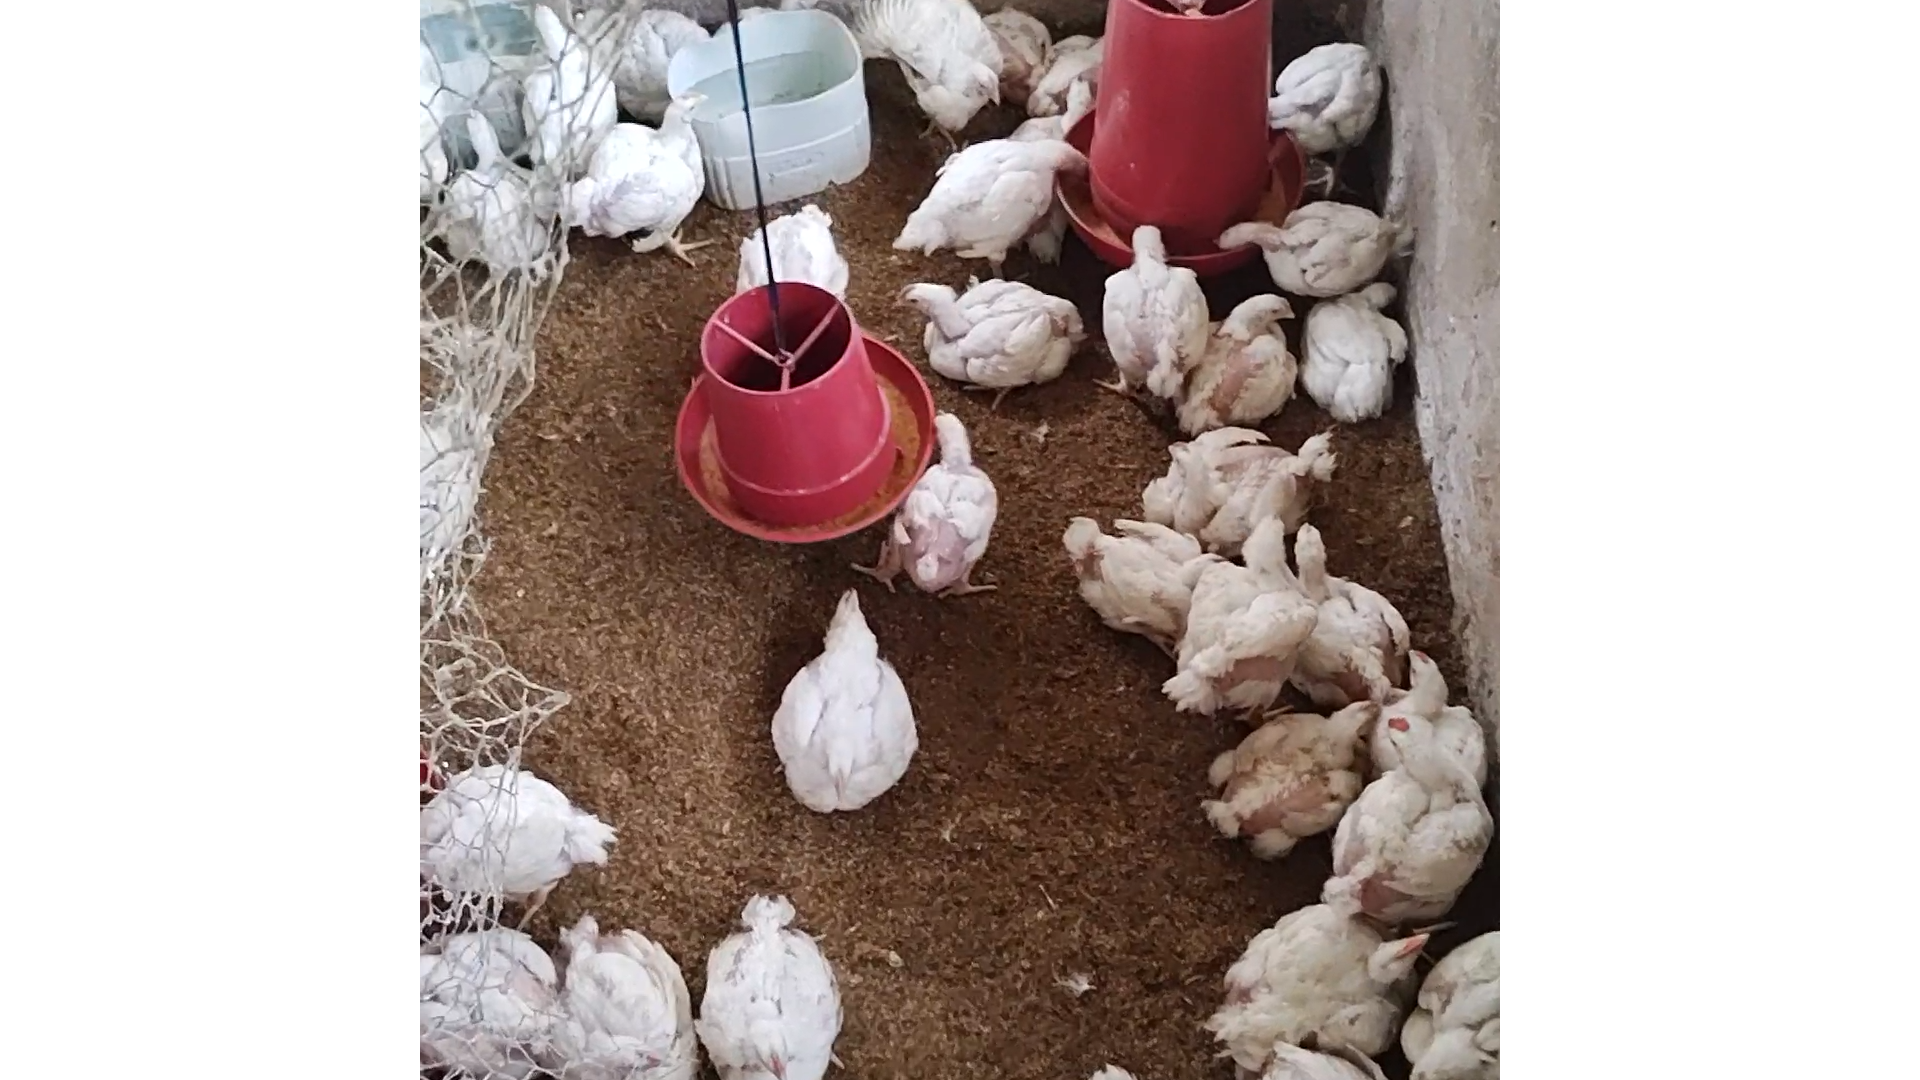Pollos: (762, 585, 928, 824), (1222, 893, 1427, 1073), (405, 750, 620, 906), (1338, 711, 1495, 920), (568, 75, 729, 276), (1197, 688, 1379, 861), (884, 264, 1097, 406), (694, 884, 845, 1080), (1275, 498, 1418, 707), (1160, 516, 1299, 728), (553, 906, 720, 1080), (1046, 498, 1229, 653), (897, 131, 1093, 270), (1138, 404, 1312, 559), (1093, 214, 1221, 406), (852, 0, 1013, 152), (1255, 26, 1424, 167), (1205, 200, 1425, 302), (889, 407, 1004, 592), (1379, 633, 1510, 793), (1315, 282, 1437, 440), (1182, 291, 1294, 458), (728, 203, 857, 310)
